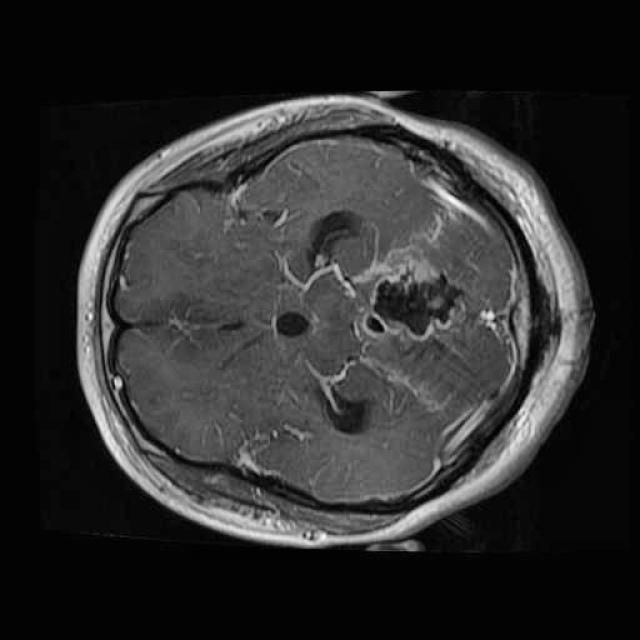Tumor: (352, 235, 473, 347)
